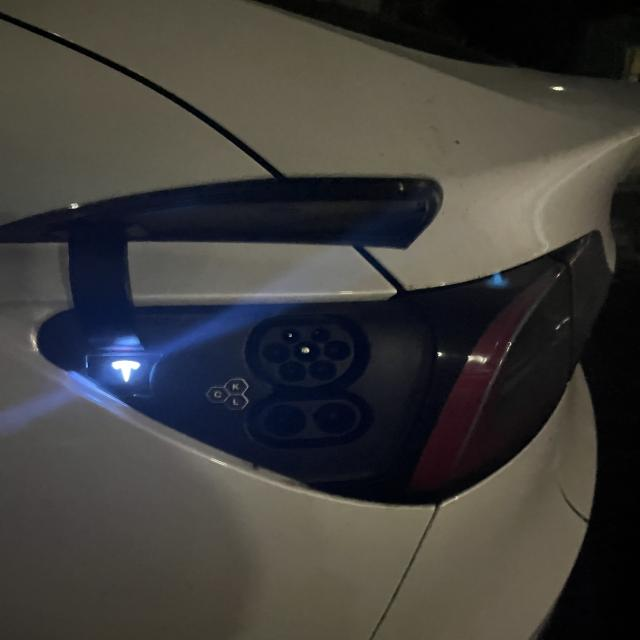inlet: (258, 325, 354, 387)
inlet-above-left: (281, 329, 300, 343)
inlet-above-right: (310, 328, 331, 343)
inlet-below-left: (279, 361, 307, 382)
inlet-below-right: (309, 360, 337, 381)
inlet-circle: (294, 341, 320, 362)
inlet-circle-left: (263, 342, 290, 362)
inlet-circle-right: (323, 340, 350, 361)
inlet-minus: (312, 402, 357, 434)
inlet-plus: (264, 405, 307, 437)
